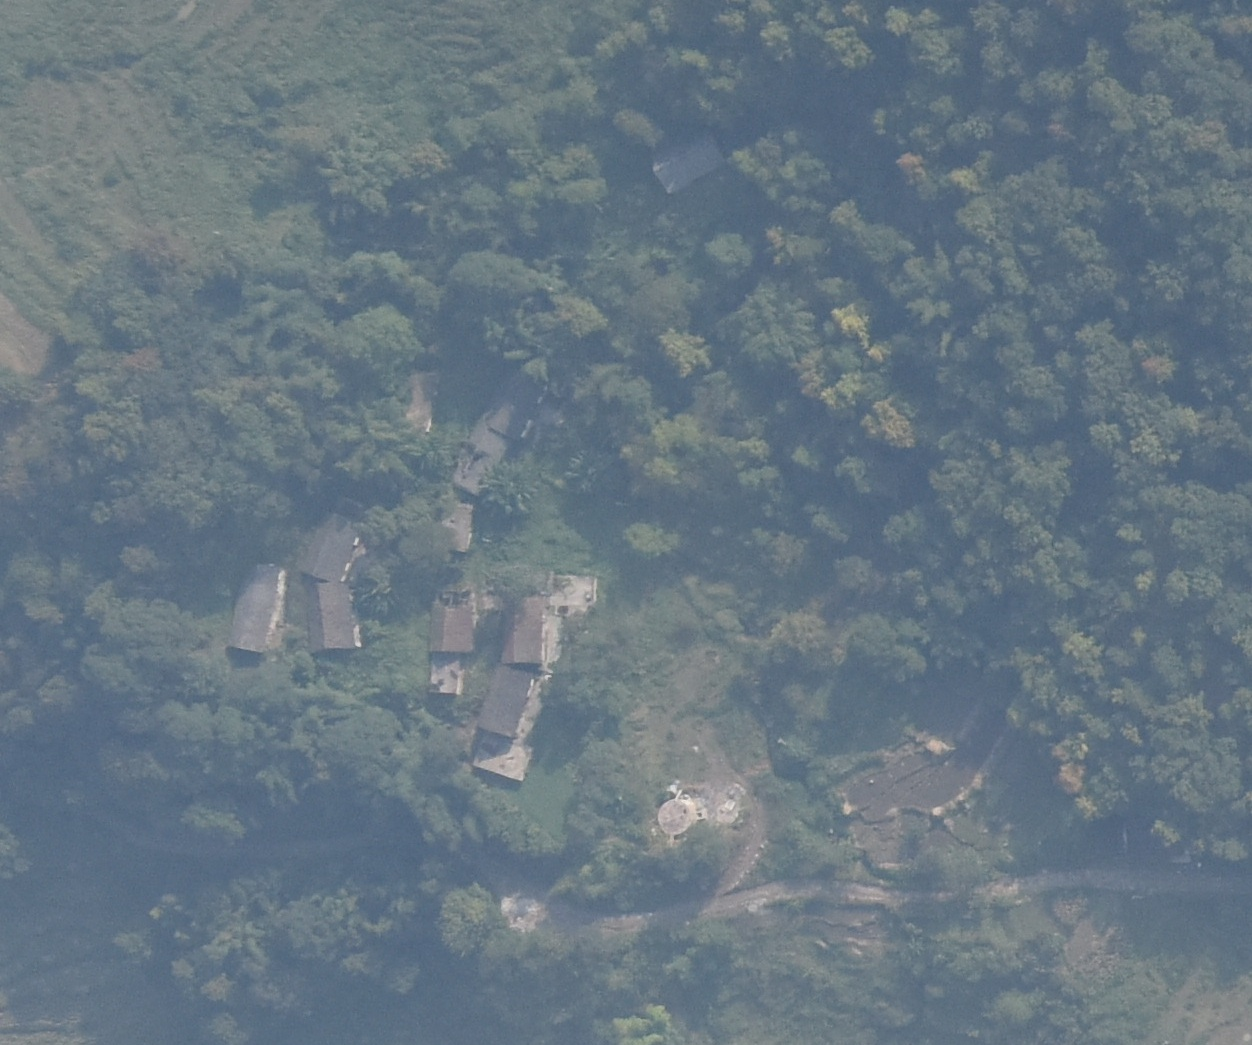building: (457, 370, 550, 497), (221, 560, 288, 657), (297, 504, 374, 583), (491, 589, 555, 668), (651, 133, 730, 194), (307, 576, 362, 654), (424, 584, 477, 658), (434, 493, 478, 555), (477, 735, 533, 782), (402, 362, 435, 433), (426, 656, 462, 695)
ship: (479, 667, 536, 742)
well: (655, 795, 696, 837)
